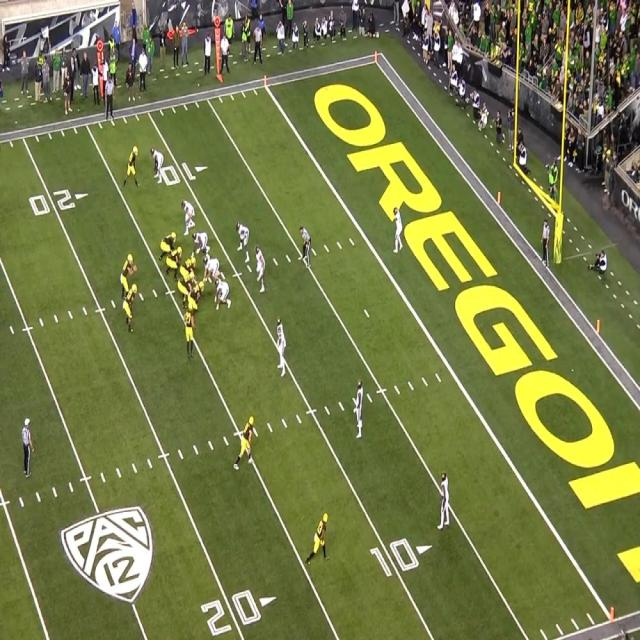center: (181, 256, 197, 276)
db: (352, 380, 364, 438), (440, 470, 450, 524), (149, 147, 163, 181), (392, 207, 402, 253)
lb: (234, 218, 250, 260), (252, 245, 266, 289), (275, 316, 285, 374), (180, 199, 196, 229)
qb: (123, 250, 136, 288)
